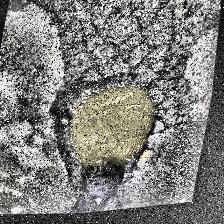pothole: (44, 76, 170, 196)
